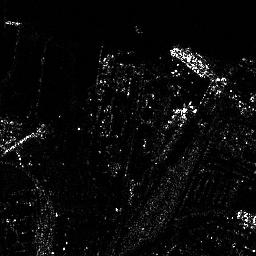ship: (170, 43, 210, 77)
